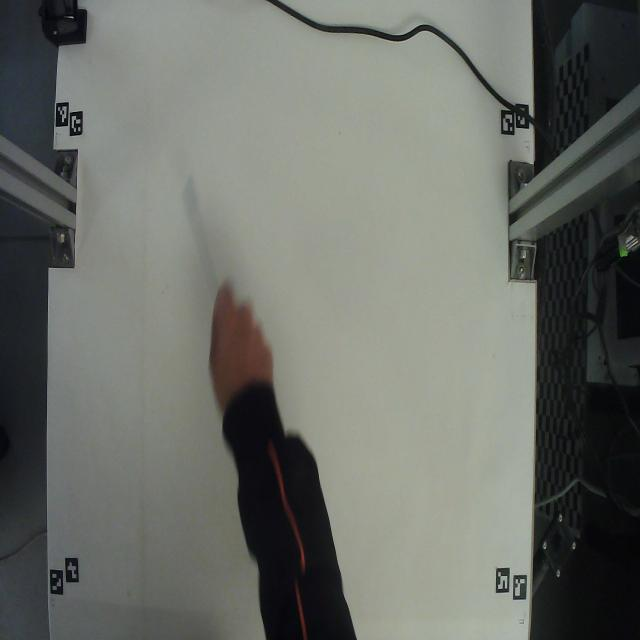NoPres: (172, 168, 230, 310)
